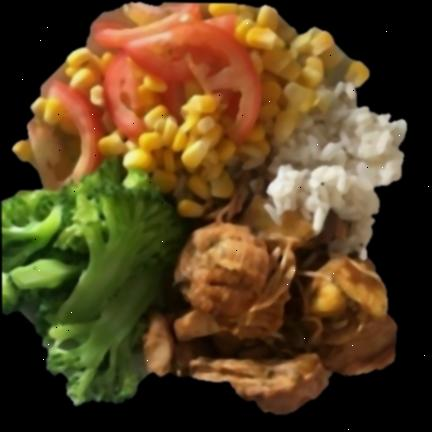broccoli: (2, 158, 185, 403)
chicken: (143, 198, 396, 414)
corn: (14, 3, 369, 218)
rice: (266, 82, 407, 254)
tomato: (96, 9, 260, 141), (49, 82, 104, 177)
